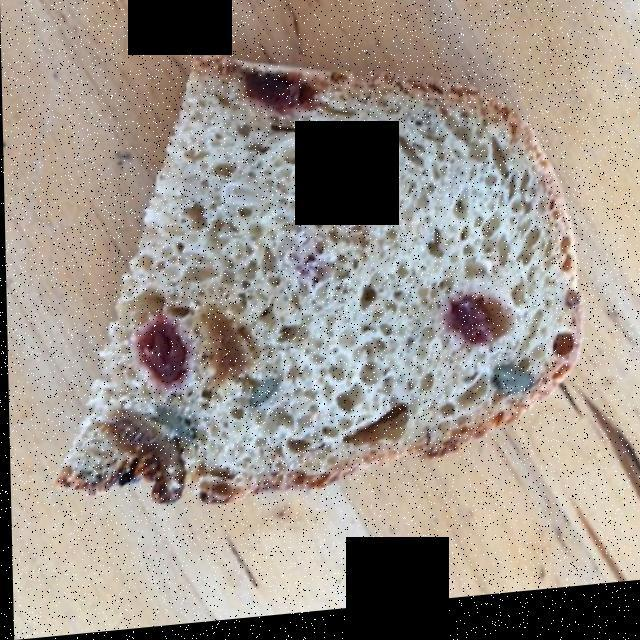bread: (37, 52, 589, 507)
